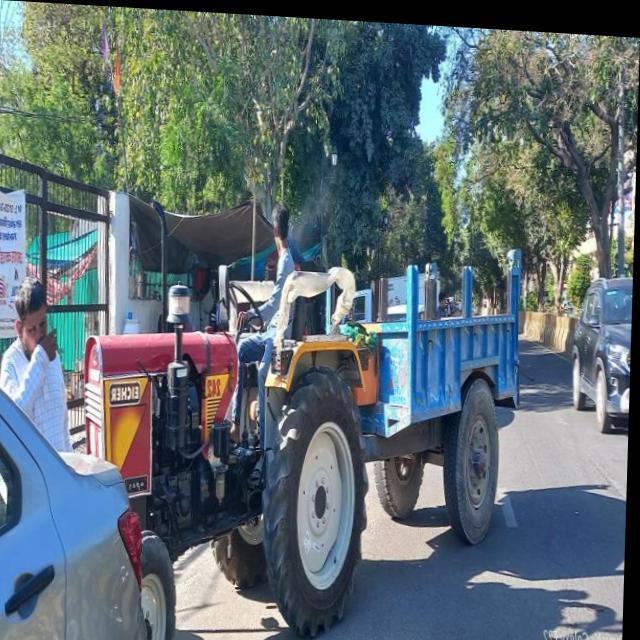uncovered: (337, 240, 526, 557)
